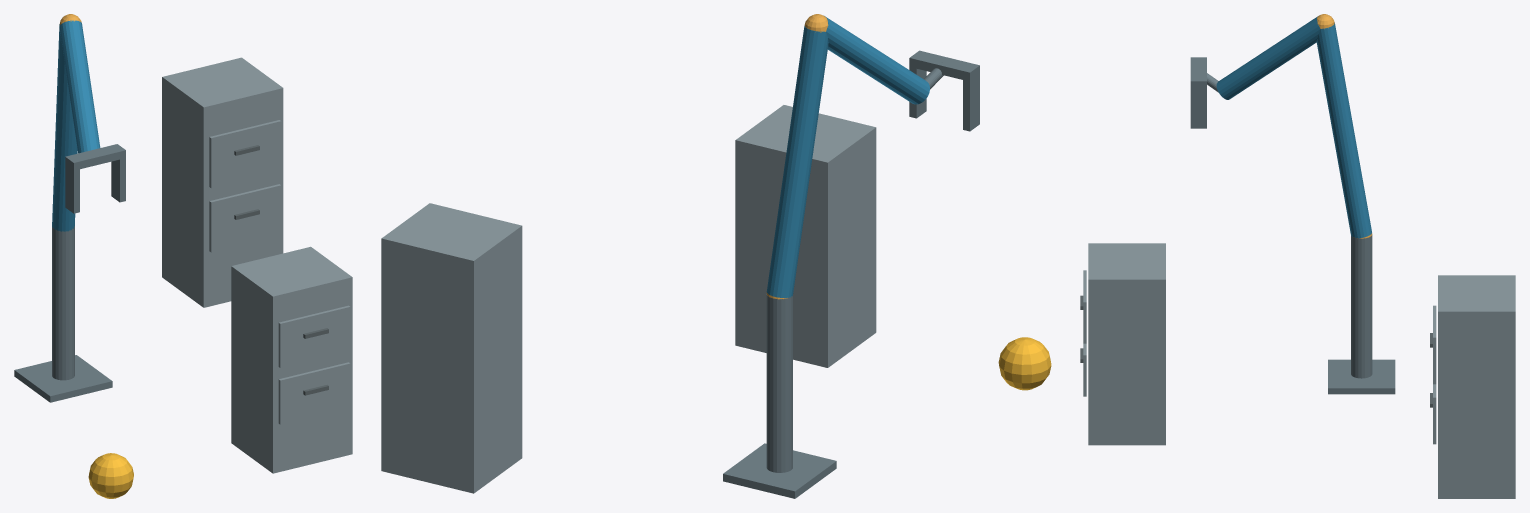
3 renders of one model, left to right at view 1: azimuth 30°, elevation 25°; view 2: azimuth 150°, elevation 25°; view 3: azimuth 270°, elevation 25°, orthographic. The views are drawn at different scales.
Parts seen in each view (by area): view 1: cabinet_2 body, cabinet_1 body, cabinet_2 drawer front, cabinet_2 drawer front.001, fixed post, cabinet_1 drawer front, cabinet_1 drawer front.001, moving link 2, moving link 1, pedestal, ball ball_1, gripper bridge (+2 smaller); view 2: cabinet_2 body, cabinet_1 body, moving link 1, fixed post, pedestal, moving link 2, ball ball_1, gripper bridge, gripper finger -1; view 3: cabinet_2 body, cabinet_1 body, moving link 1, fixed post, moving link 2, pedestal, gripper finger 1, gripper bridge.
Boxes of the visible parts, <box> form: cabinet_2 body: <box>162,57,283,307</box>; cabinet_1 body: <box>231,246,352,473</box>; cabinet_2 drawer front: <box>209,184,281,252</box>; cabinet_2 drawer front.001: <box>209,120,281,188</box>; fixed post: <box>52,227,74,380</box>; cabinet_1 drawer front: <box>278,362,350,424</box>; cabinet_1 drawer front.001: <box>278,305,350,367</box>; moving link 2: <box>59,20,100,153</box>; moving link 1: <box>52,24,77,231</box>; pedestal: <box>14,355,112,402</box>; ball ball_1: <box>88,453,133,498</box>; gripper bridge: <box>65,144,125,170</box>; cabinet_2 body: <box>381,203,522,493</box>; cabinet_1 body: <box>735,105,876,367</box>; moving link 1: <box>766,26,828,298</box>; fixed post: <box>766,294,792,472</box>; pedestal: <box>723,443,836,498</box>; moving link 2: <box>825,16,929,104</box>; ball ball_1: <box>998,337,1051,390</box>; gripper bridge: <box>909,50,979,81</box>; gripper finger -1: <box>963,75,979,131</box>; cabinet_2 body: <box>1438,275,1515,498</box>; cabinet_1 body: <box>1088,243,1165,445</box>; moving link 1: <box>1316,23,1371,238</box>; fixed post: <box>1351,235,1372,378</box>; moving link 2: <box>1216,16,1320,99</box>; pedestal: <box>1328,359,1395,394</box>; gripper finger 1: <box>1190,88,1206,128</box>; gripper bridge: <box>1190,57,1206,88</box>.
Bounding box in the file's own units: 1.46 × 1.48 × 1.62.
